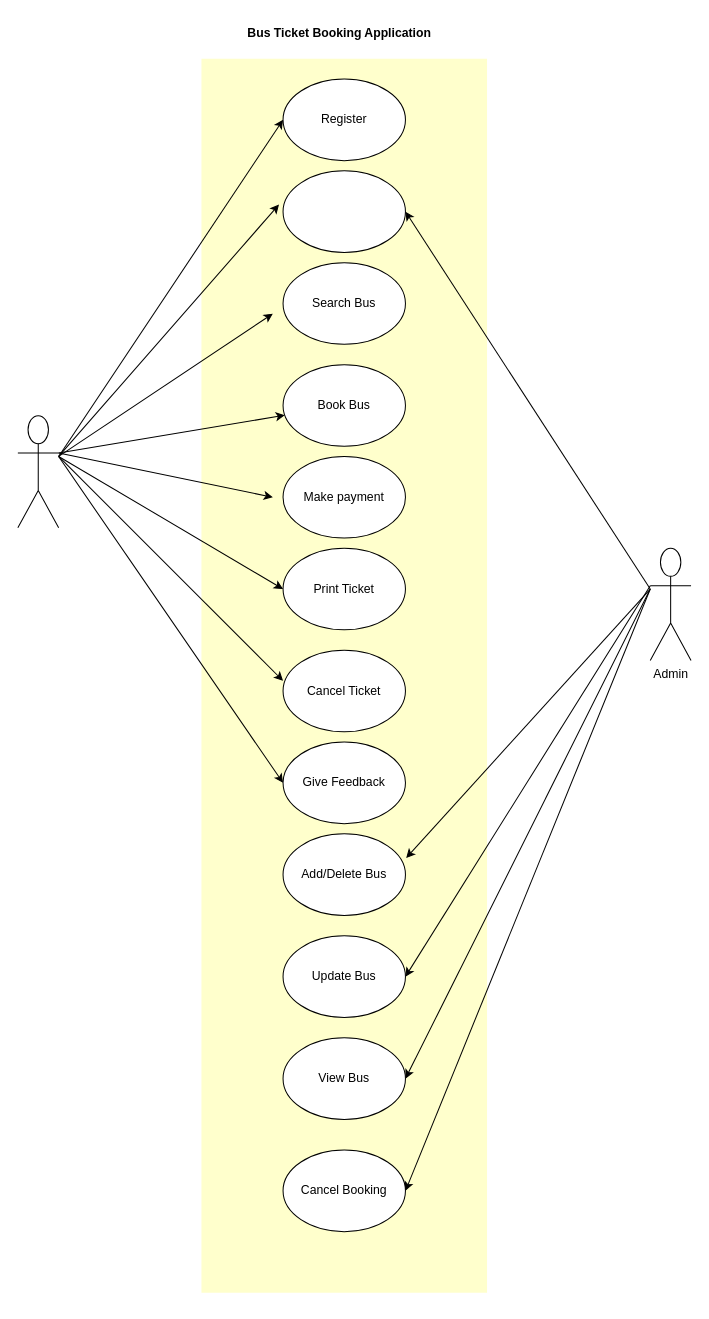
The diagram is 709 pixels wide and 1319 high, and some of its shapes have lost their labels. Each missing label, with the box of its shape:
Login: (282, 170, 405, 252)
User: (17, 415, 59, 528)
